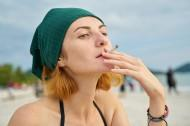smoke: (104, 42, 119, 55)
